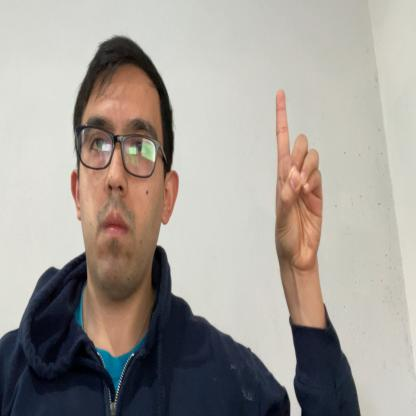D: (274, 88, 323, 276)
